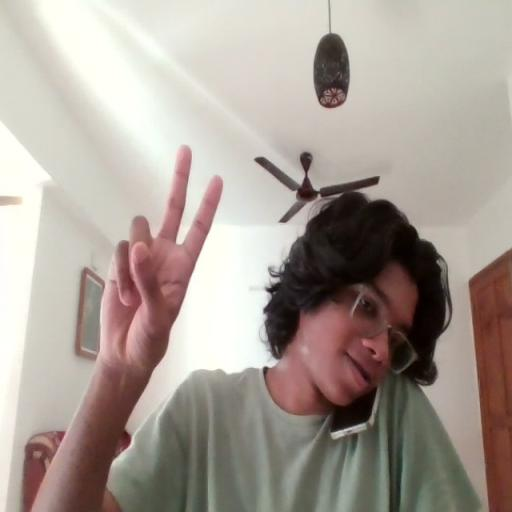scissor: (102, 138, 223, 374)
